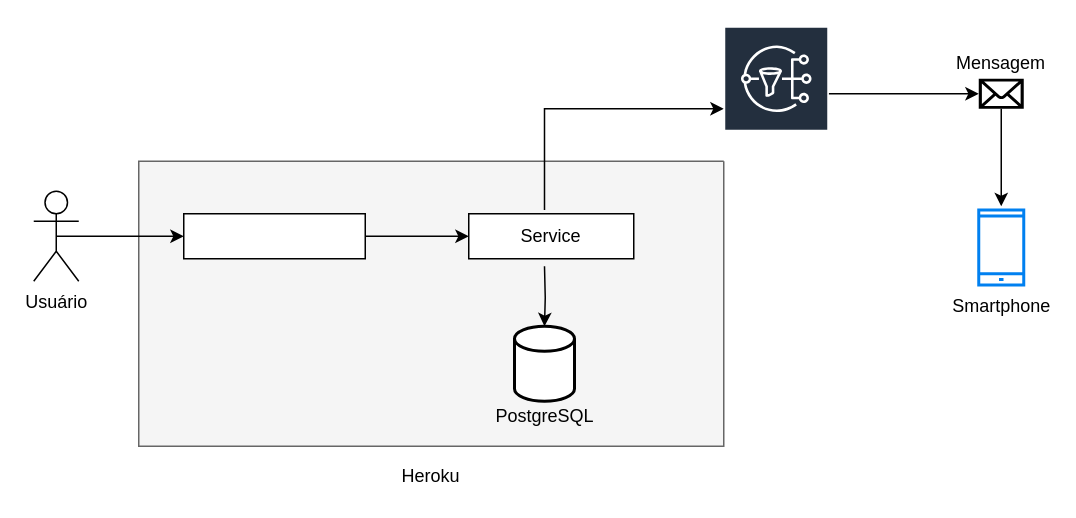
The diagram is 1076 pixels wide and 518 high, and some of its shapes have lost their labels. Here are the shapes that lost their labels. From the top down, the centre of each, then its label:
At pixel 775 93: "Amazon SNS".
At pixel 273 235: "Autenticação".
